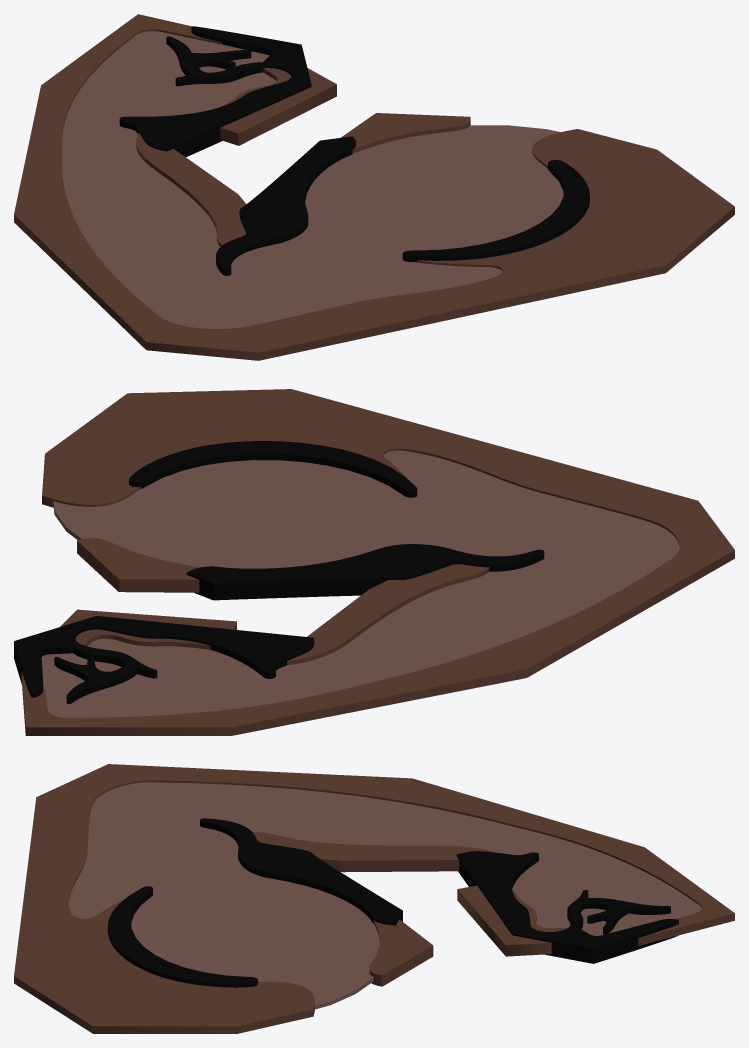
Rendered from emoji_u1f4aa_1f3ff.glb.
The picture shows the model from 3 angles, top to bottom: view 1: azimuth 30°, elevation 25°; view 2: azimuth 150°, elevation 25°; view 3: azimuth 270°, elevation 25°; orthographic projection. The views are drawn at different scales.
Visible parts, largest first — view 1: emoji_u1f4aa_1f3ff; view 2: emoji_u1f4aa_1f3ff; view 3: emoji_u1f4aa_1f3ff.
Part boxes in pixels (left/top/right/bottom): emoji_u1f4aa_1f3ff: left=14, top=14, right=734, bottom=360; emoji_u1f4aa_1f3ff: left=14, top=389, right=734, bottom=735; emoji_u1f4aa_1f3ff: left=14, top=764, right=734, bottom=1033.
Bounding box in the file's own units: 0.0299 × 0.0008 × 0.0347.
